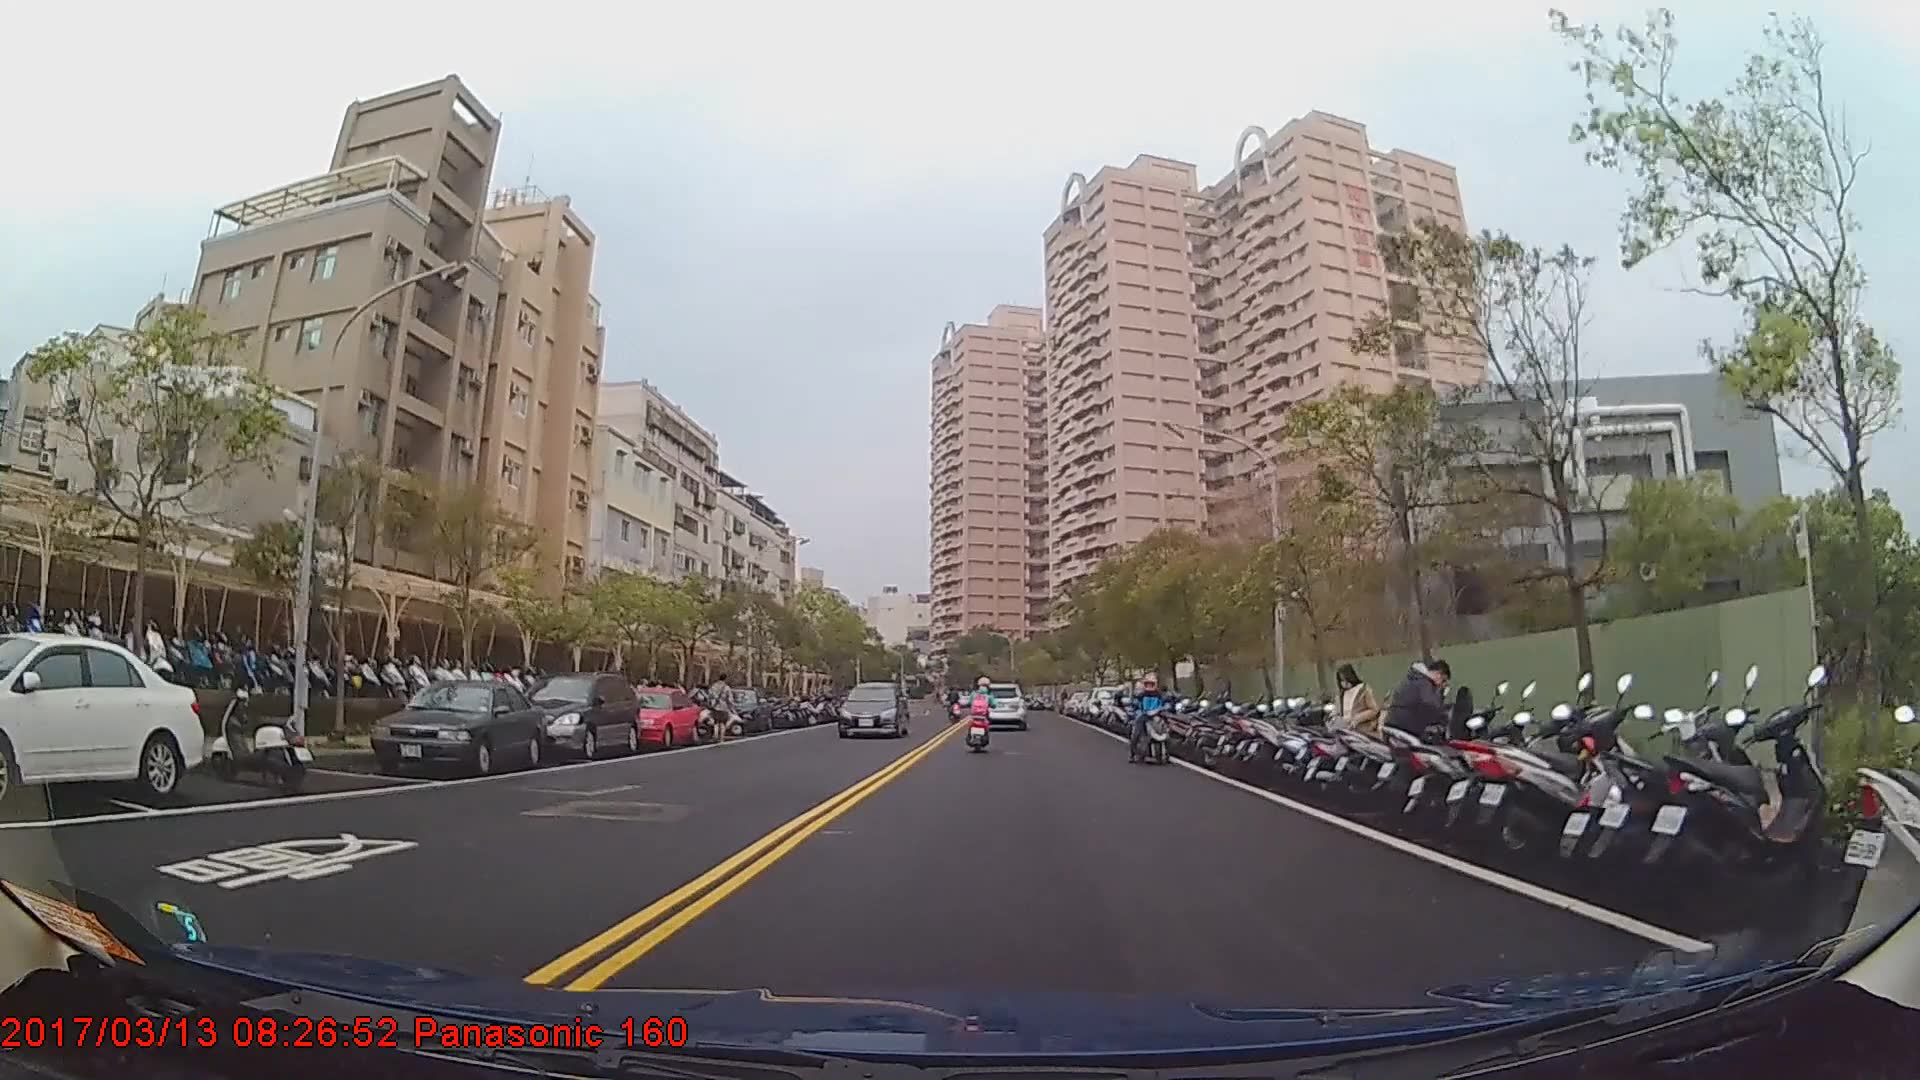pedestrian: (1384, 655, 1463, 821), (1331, 666, 1391, 809), (1420, 662, 1454, 759), (707, 674, 738, 747)
rider: (1126, 673, 1173, 767), (965, 680, 996, 750)
vehicle: (0, 627, 201, 808), (367, 679, 543, 778), (512, 674, 639, 764), (609, 686, 701, 749), (837, 682, 909, 740), (972, 680, 1026, 731)
